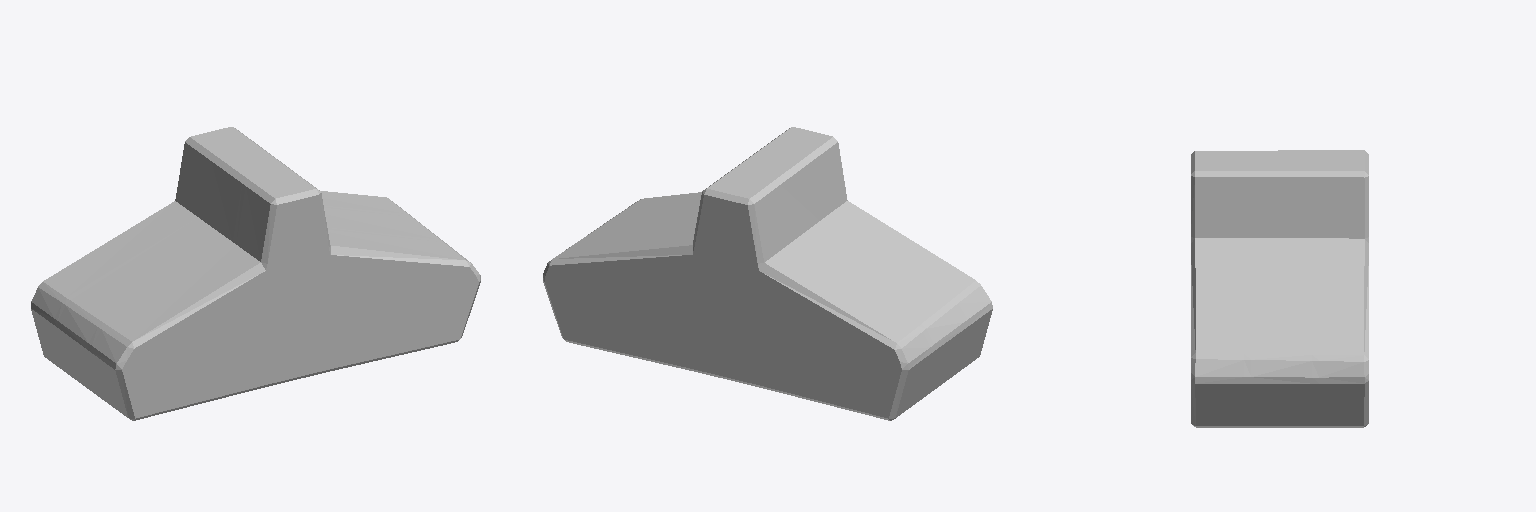
Rendered from PelvisO.obj.
3 renders of one model, left to right at view 1: azimuth 30°, elevation 25°; view 2: azimuth 150°, elevation 25°; view 3: azimuth 270°, elevation 25°, orthographic.
Parts seen in each view (by area): view 1: PelvisO:group PelvisO:pCube52 PelvisO:pasted__polySurface1 Pelvi; view 2: PelvisO:group PelvisO:pCube52 PelvisO:pasted__polySurface1 Pelvi; view 3: PelvisO:group PelvisO:pCube52 PelvisO:pasted__polySurface1 Pelvi.
Boxes of the visible parts, box(x1,y1,x2,y2) form: PelvisO:group PelvisO:pCube52 PelvisO:pasted__polySurface1 Pelvi: box(31, 127, 480, 420); PelvisO:group PelvisO:pCube52 PelvisO:pasted__polySurface1 Pelvi: box(543, 127, 992, 420); PelvisO:group PelvisO:pCube52 PelvisO:pasted__polySurface1 Pelvi: box(1191, 150, 1368, 427).
Bounding box in the file's own units: 2.36 × 1.16 × 1.